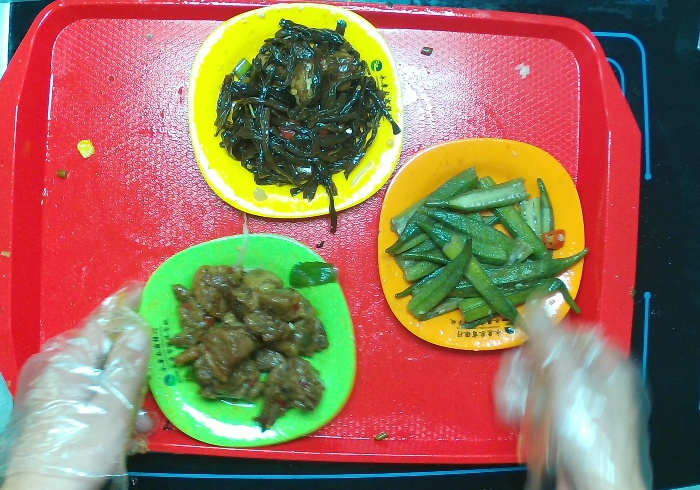YKMZ-Huang_Se_Fang_Die: (181, 1, 419, 229)
YKMZ-Ju_Se_Fang_Die: (369, 124, 602, 366)
YKMZ-Lv_Se_Fang_Die: (125, 217, 365, 460)
